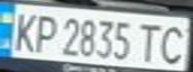2: (57, 14, 81, 57)
3: (93, 16, 118, 61)
5: (112, 17, 136, 62)
8: (78, 15, 100, 58)
C: (154, 21, 190, 65)
K: (6, 8, 39, 53)
P: (30, 11, 60, 55)
T: (133, 20, 163, 64)
